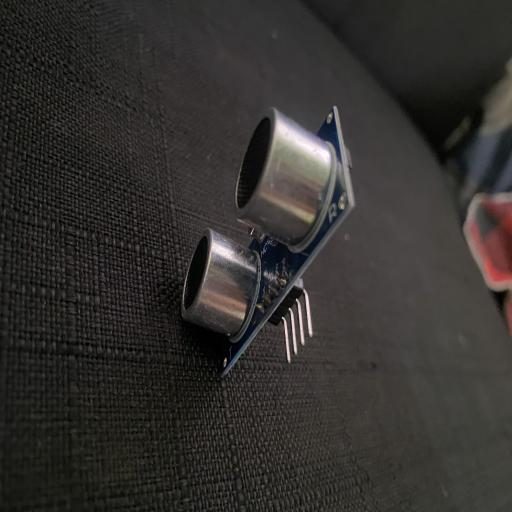Ultrasonic Sensor: (179, 103, 355, 377)
